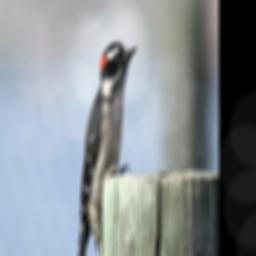Woodpecker: (77, 40, 138, 256)
